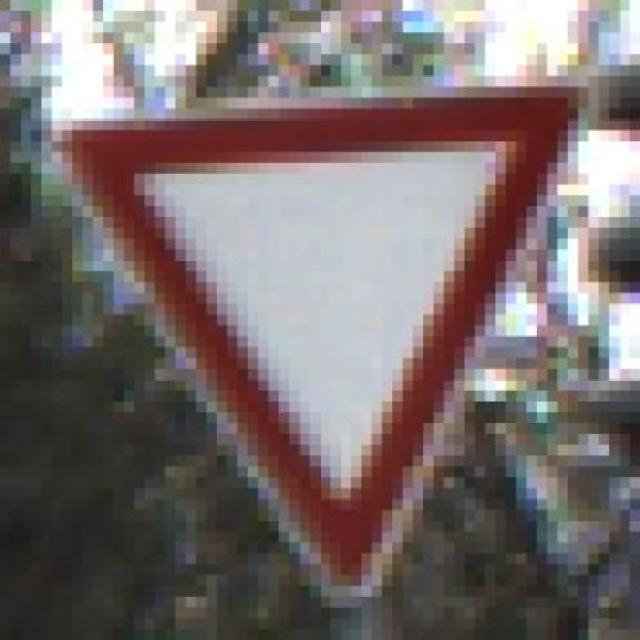Give Way: (36, 78, 584, 610)
